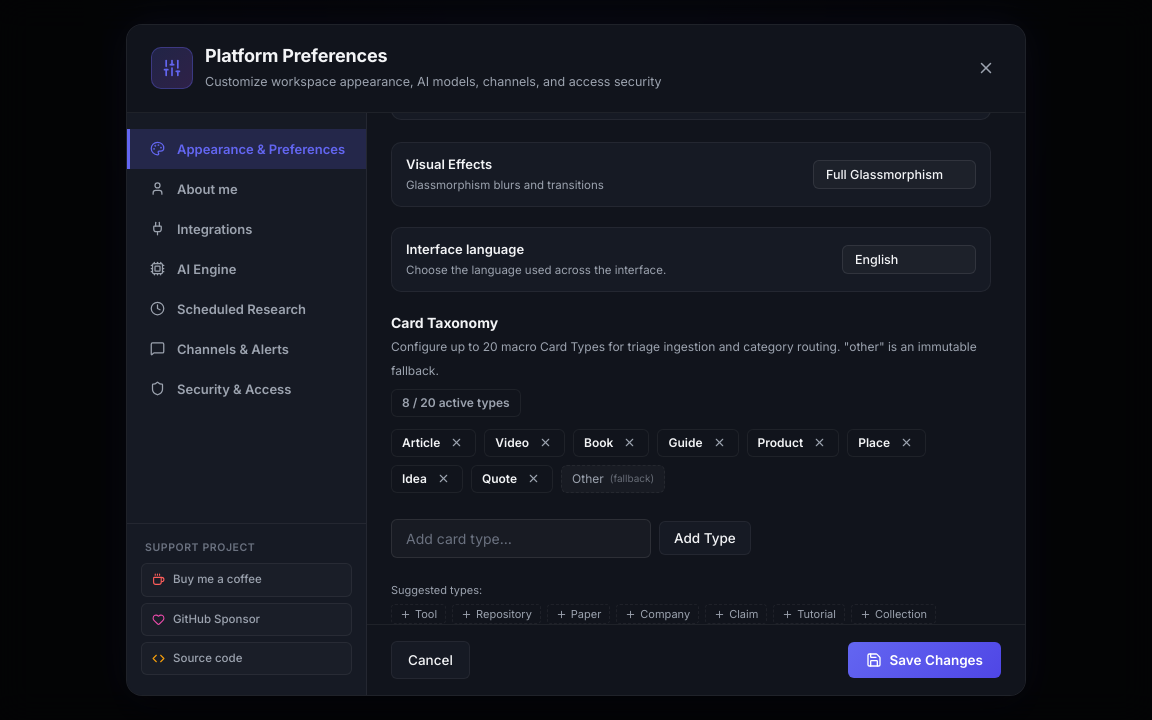
Test: Card Taxonomy Management in Platform Preferences › allows adding a new card type and updates active count
(page scrolled)
Expected: the text "8 / 20 active types" is shown, [391, 389, 521, 417]
Type "framework" into the field named "New card type". click: (521, 538)
box: [391, 519, 651, 558]
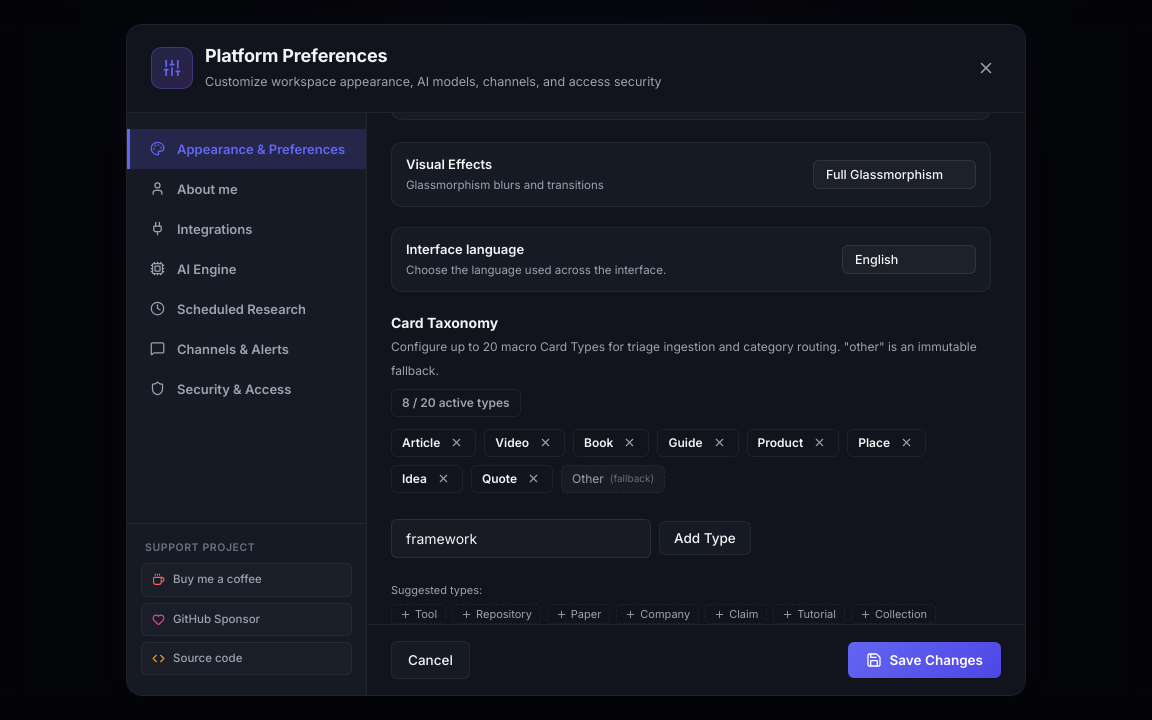
Click the button "Add Type". click: (705, 538)
box: [659, 521, 751, 555]
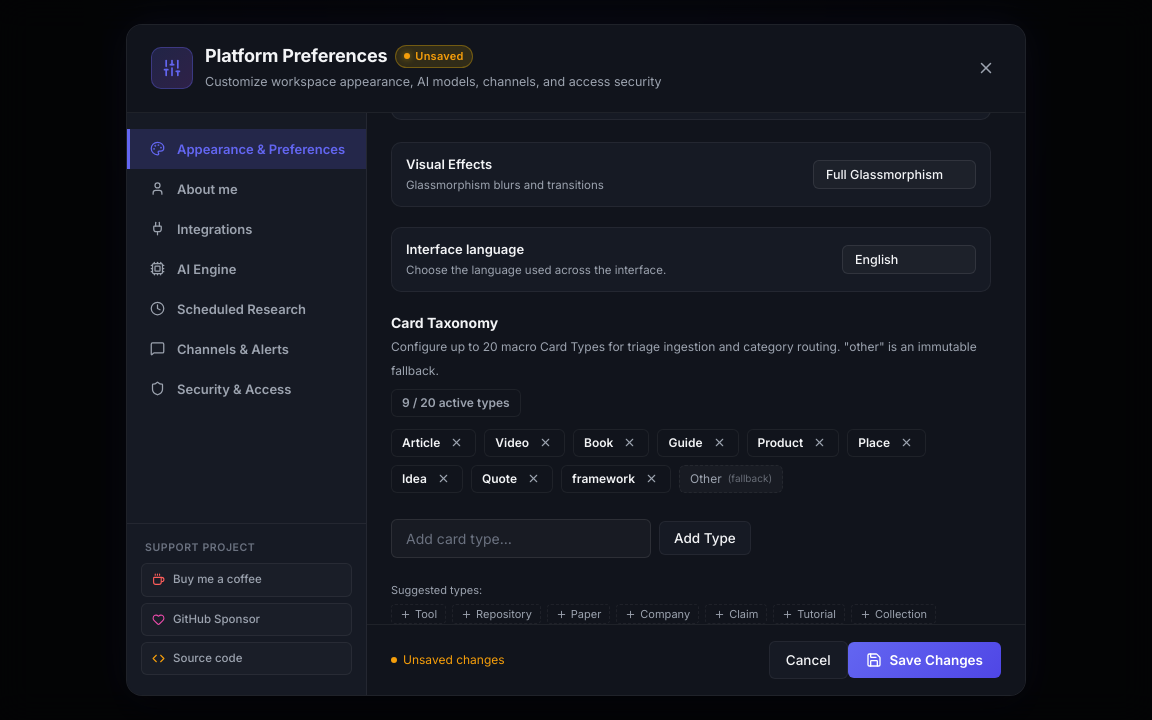
Expected: the text "9 / 20 active types" is shown, [391, 389, 521, 417]
Expected: the text "framework" is shown, [572, 470, 635, 488]
